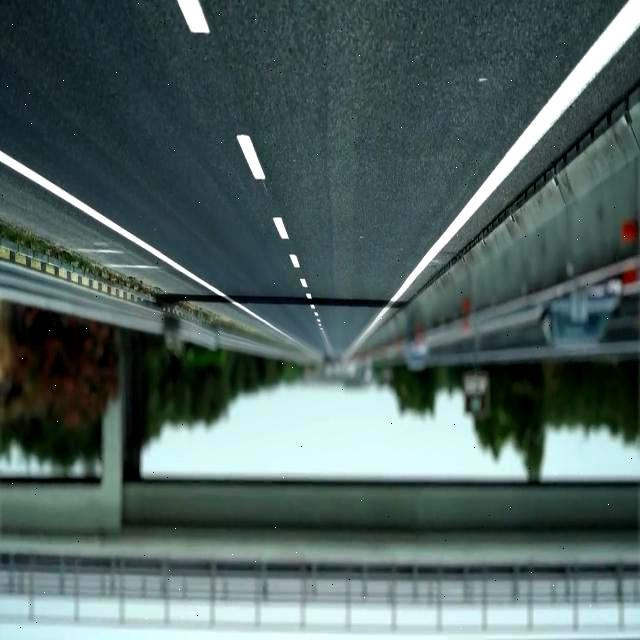lane: (346, 1, 640, 358), (0, 151, 298, 342), (236, 134, 264, 180), (178, 1, 210, 34), (272, 217, 288, 239)
road: (1, 1, 627, 357), (401, 32, 640, 300), (1, 165, 208, 294)
